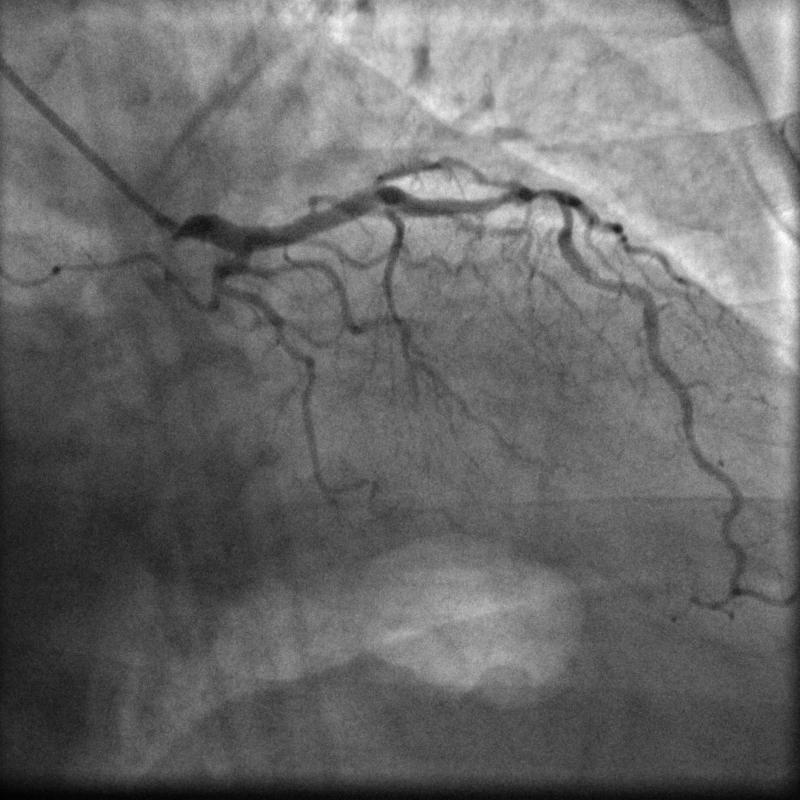Stenosis: (492, 179, 579, 226)
